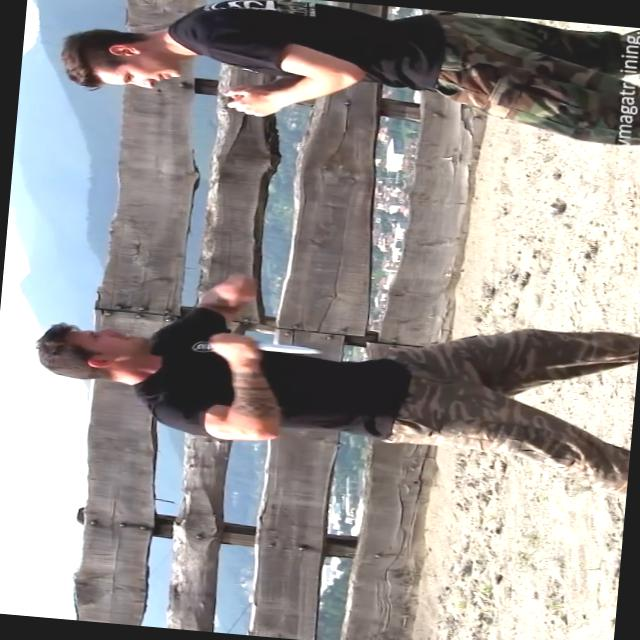knife: (204, 330, 326, 362)
